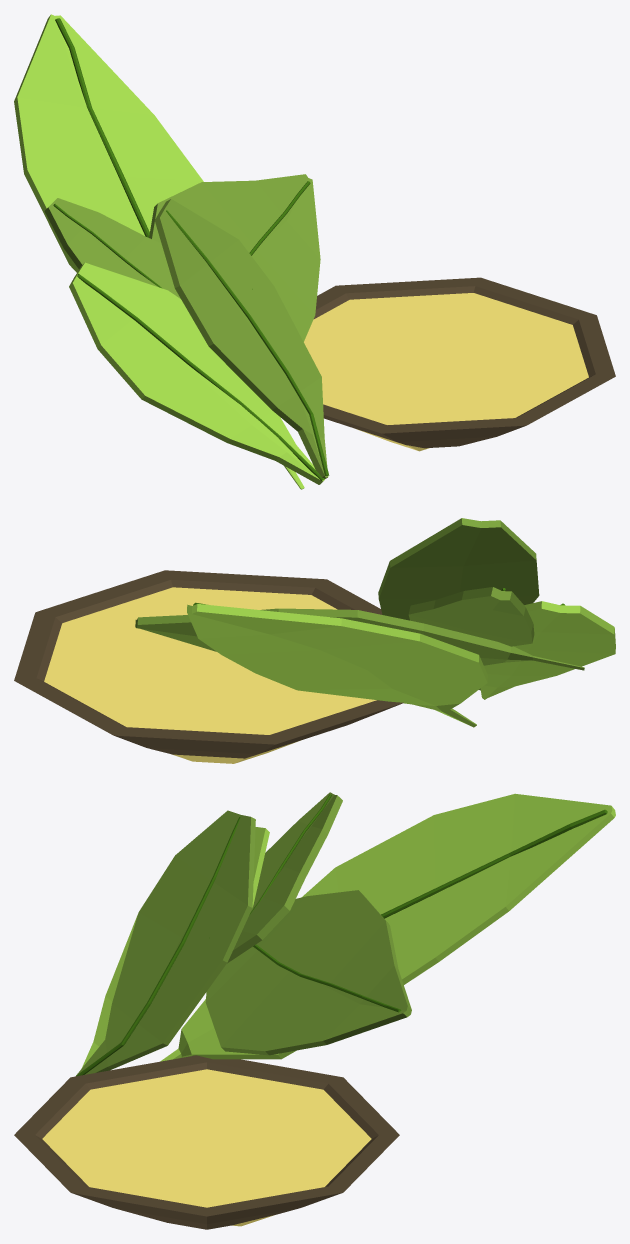
File: tea.fbx
3 views of the same model, one above another, from view 1: azimuth 30°, elevation 25°; view 2: azimuth 150°, elevation 25°; view 3: azimuth 270°, elevation 25° (orthographic). The views are drawn at different scales.
Parts seen in each view (by area): view 1: tea.001; view 2: tea.001; view 3: tea.001.
Part boxes in pixels (x1,y1,x2,y2): tea.001: (14, 14, 615, 489); tea.001: (14, 518, 615, 763); tea.001: (14, 792, 615, 1229).
Size of the model in its own units: 95.38 by 56.3 by 96.79.
